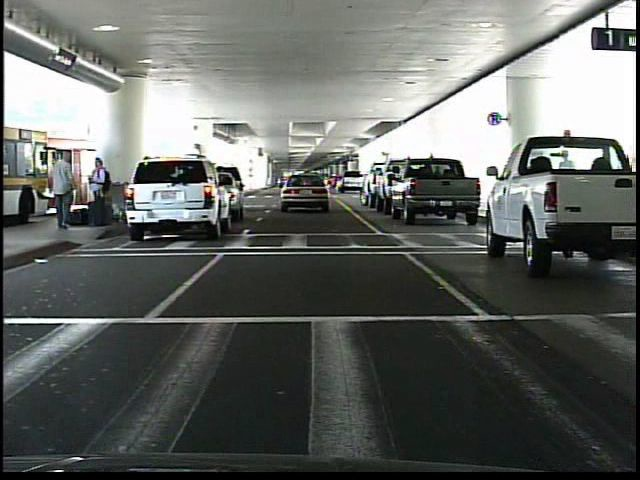person: (52, 150, 86, 236), (87, 155, 113, 230)
